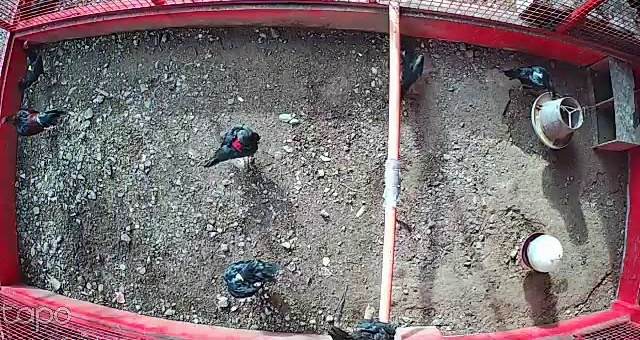Chicken: (218, 254, 280, 299), (202, 124, 260, 171), (384, 43, 427, 102), (500, 61, 560, 102), (16, 34, 53, 96), (322, 317, 405, 340)
Rooster: (0, 101, 71, 145)
Saddle_Color_Red: (233, 138, 243, 150)
Saddle_Color_Yellow: (26, 63, 35, 71)
Saddle_Color_YellowGreen: (231, 272, 247, 285)
